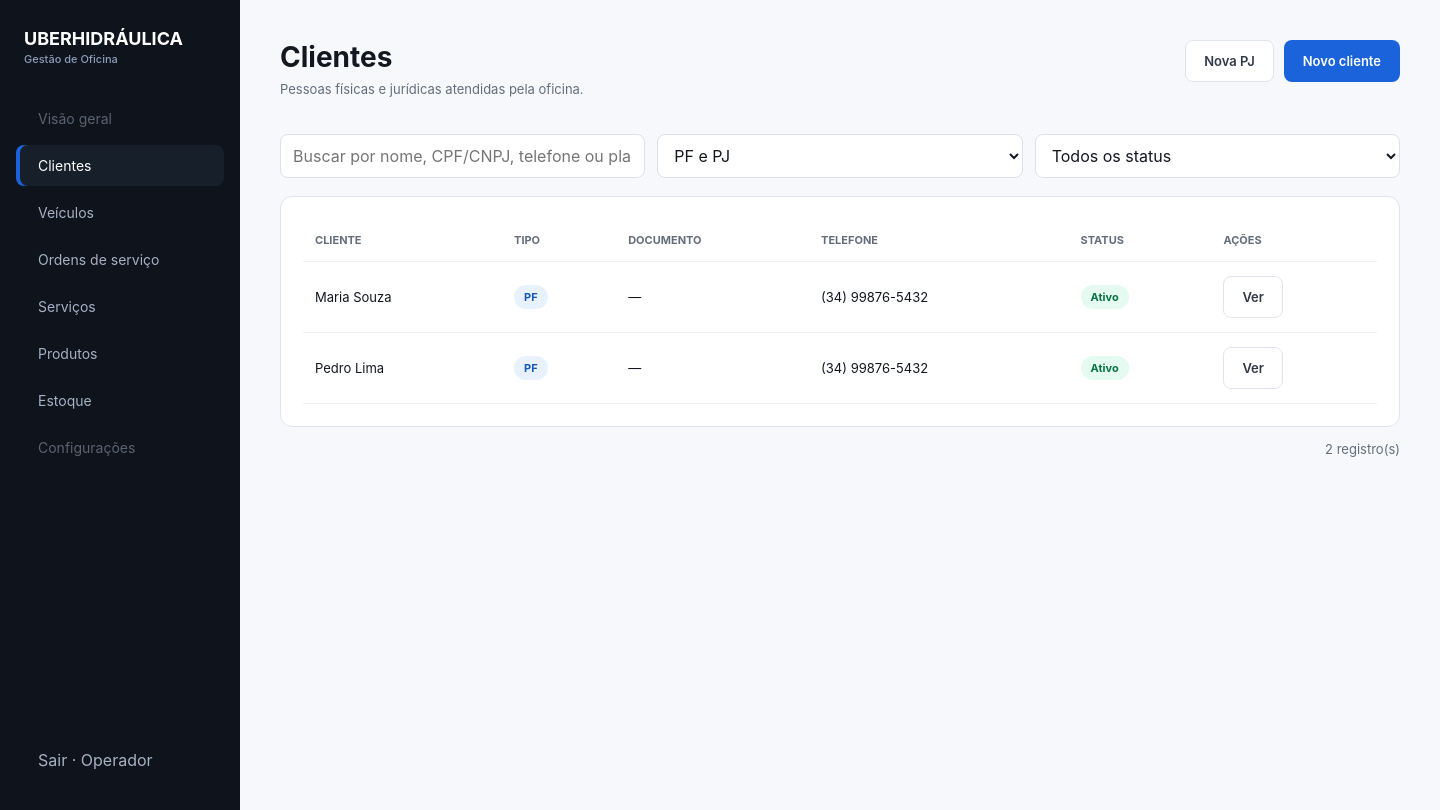
Test case: lista clientes pela busca do servidor enviando termo, filtros e página
Expected: the cell "Pedro Lima" is shown, [303, 332, 502, 404]
Expected: the number of cells "(34) 99876-5432" is 2, [809, 262, 1069, 332]; [809, 332, 1069, 404]
In the field named "Buscar clientes": (463, 156) [280, 134, 645, 178], type "maria"
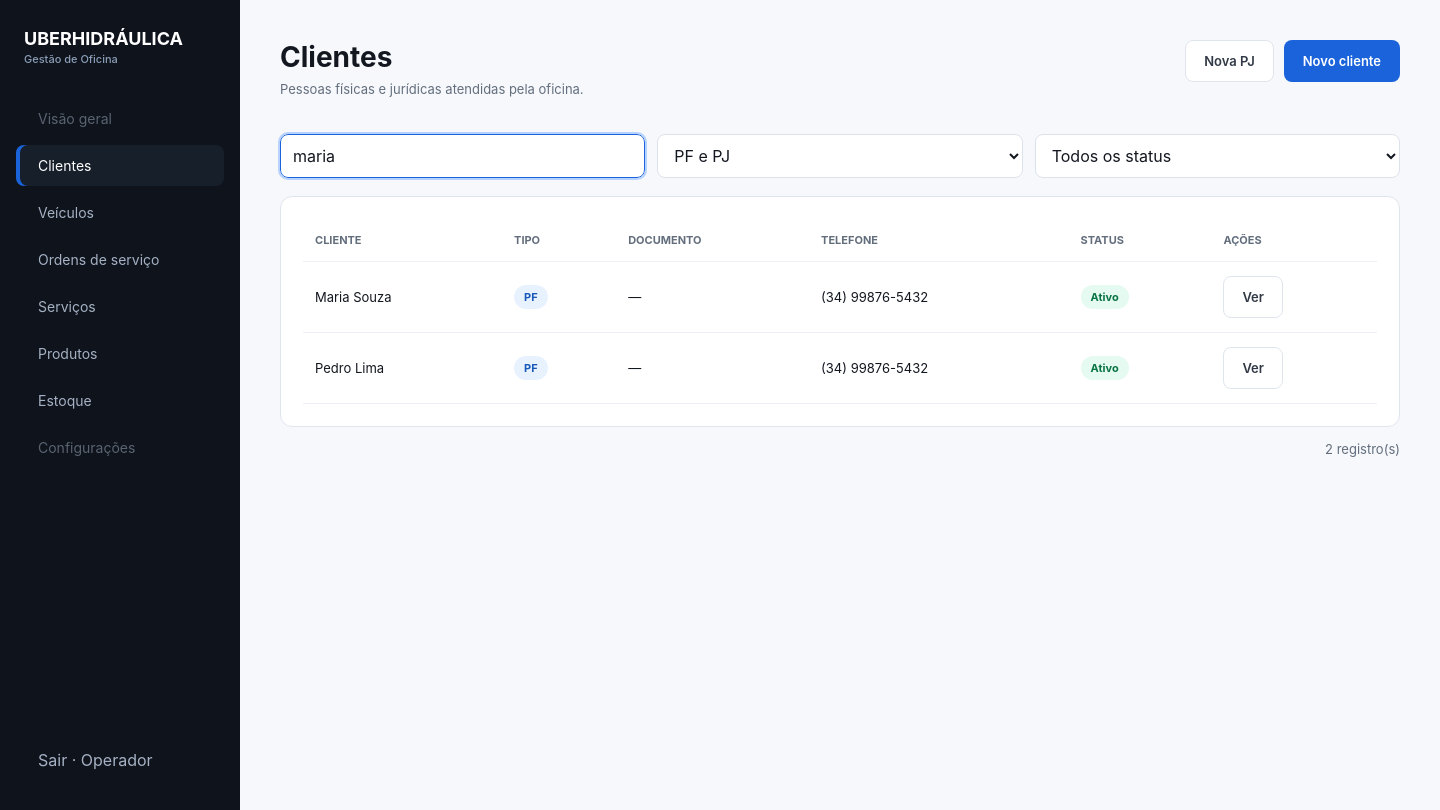
Select "Ativos" in the dropdown named "Status": (1217, 156) [1035, 134, 1400, 178]
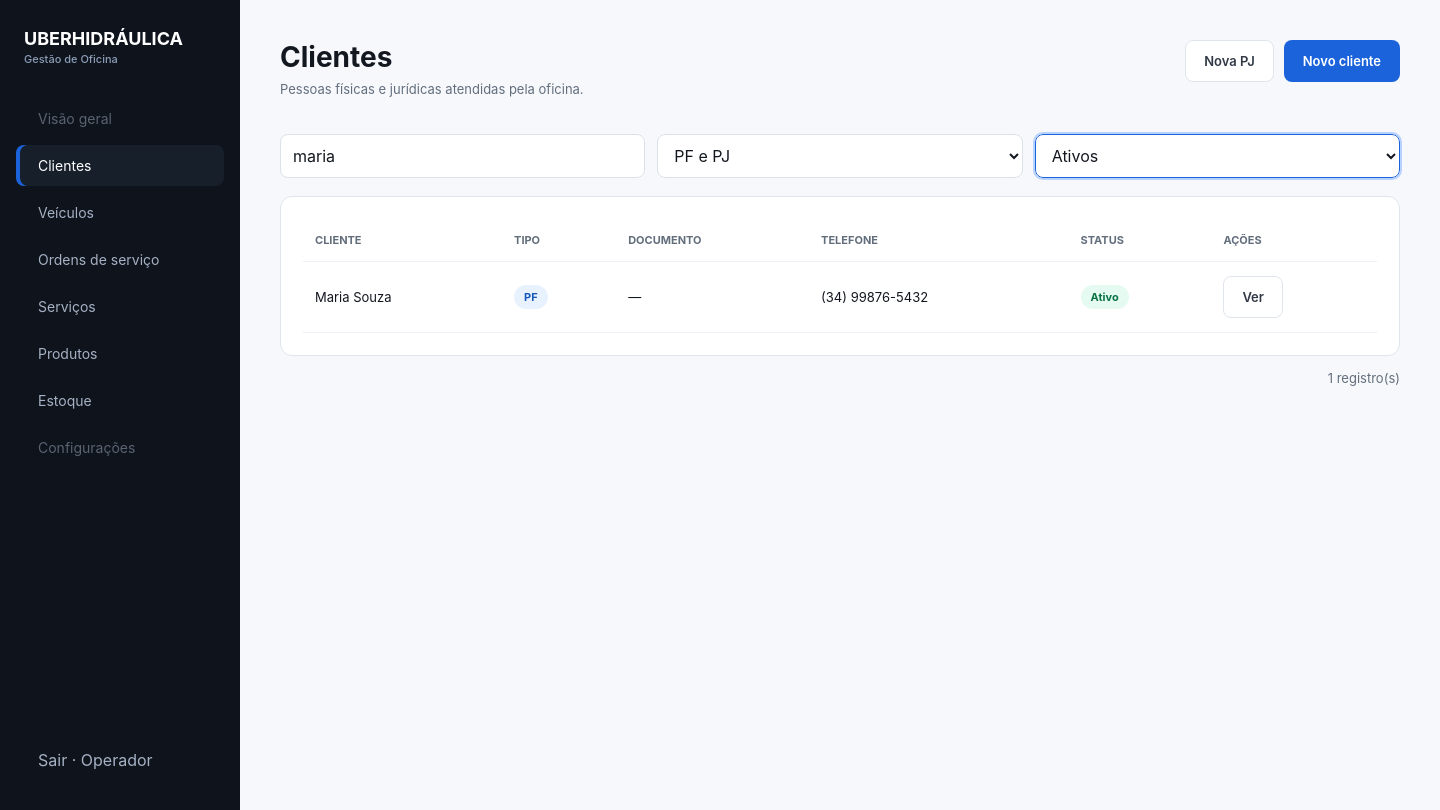
Now the cell "Pedro Lima" is gone
